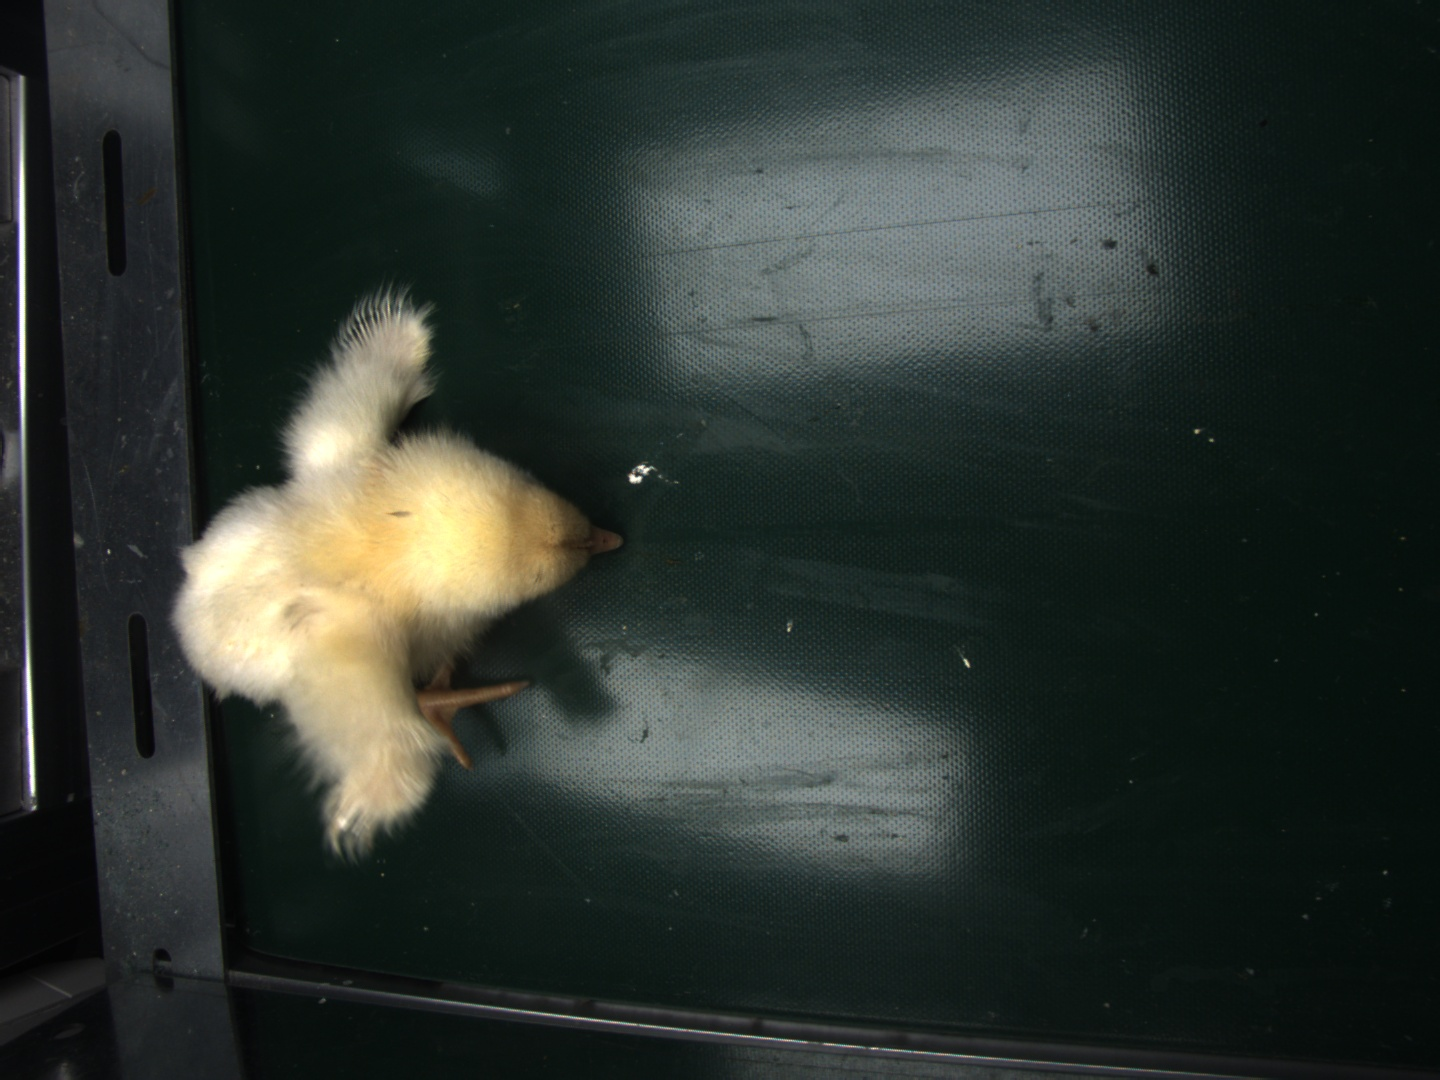male: (344, 304, 403, 354)
